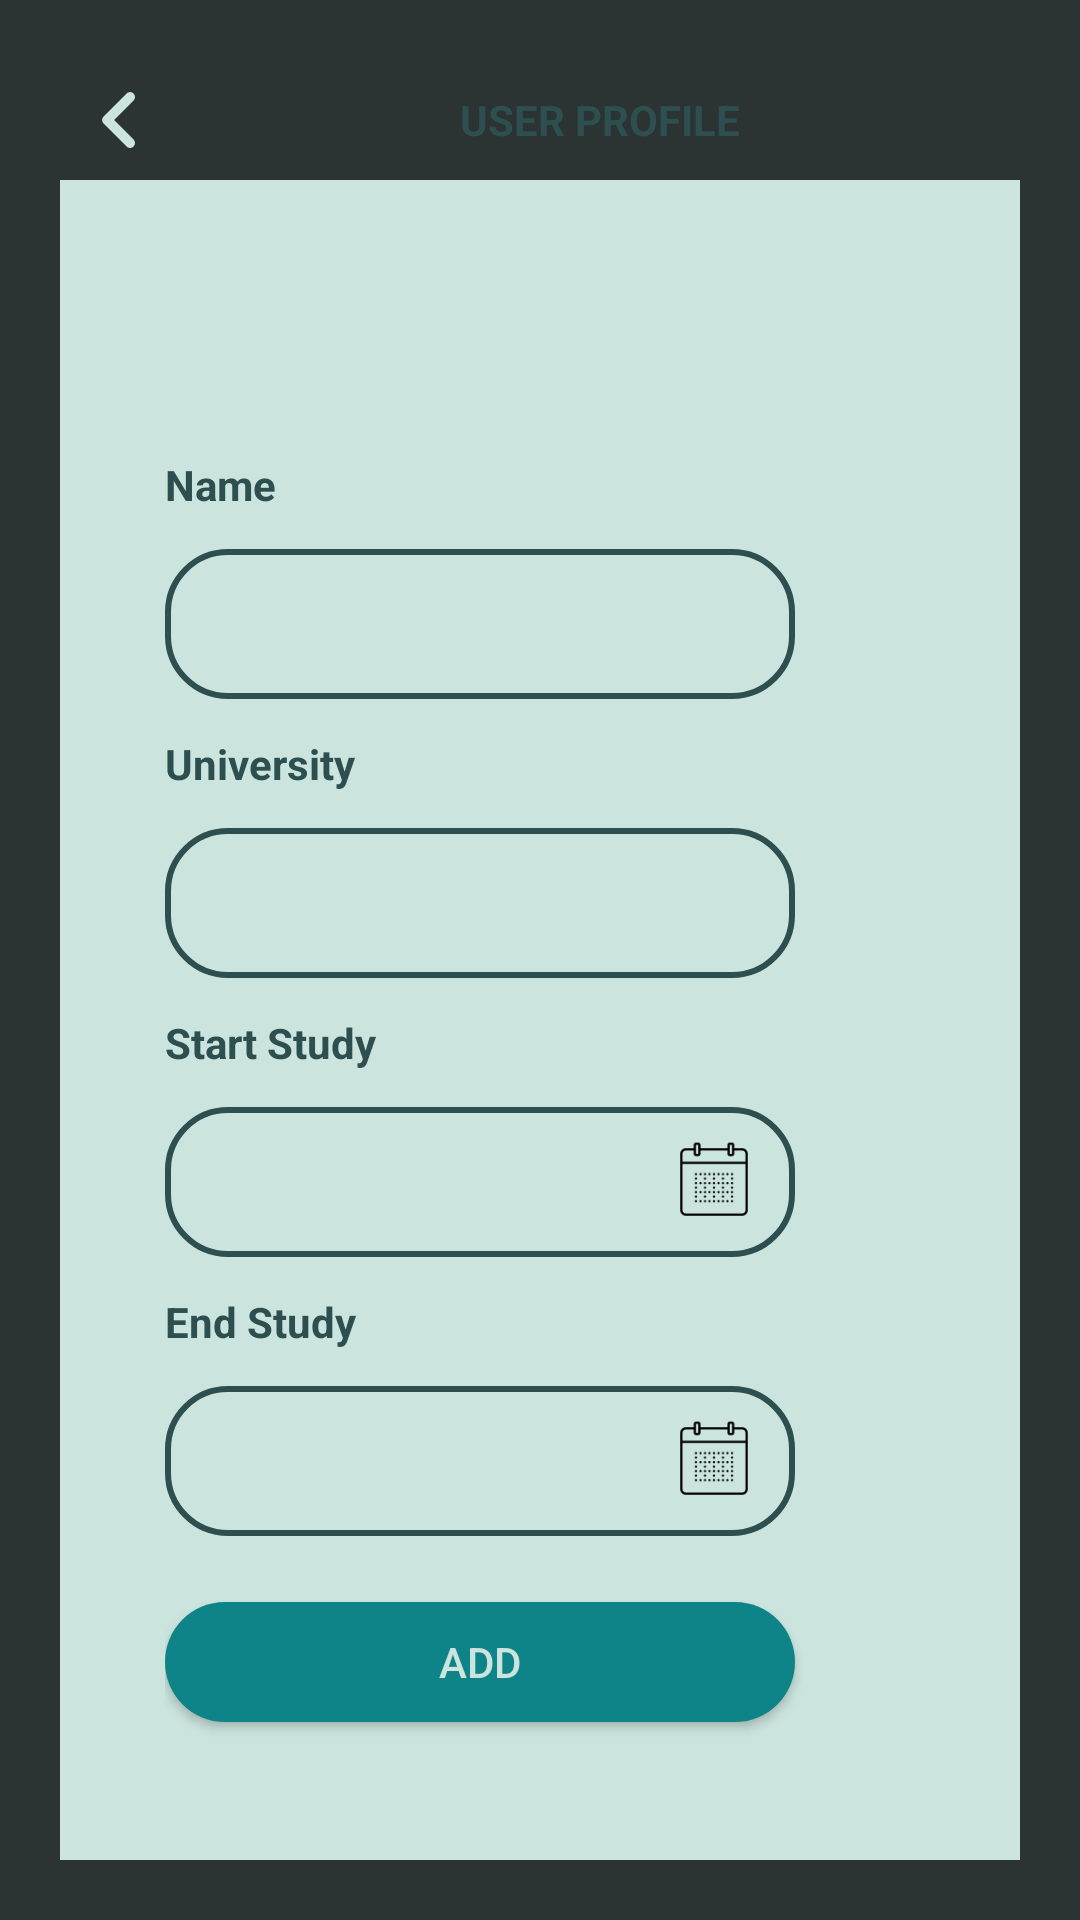

Screen size 1080×1920. Icon name, then its center in pixels as (x,y):
keyboard backspace: (118,120)
